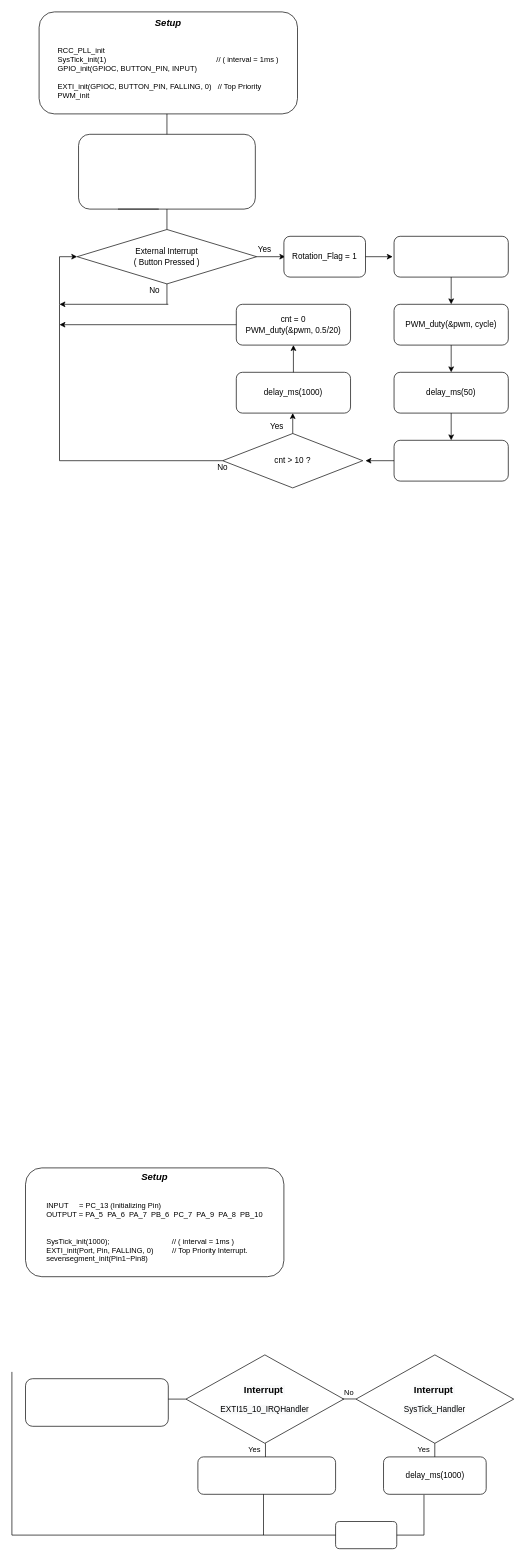
The diagram is 526 pixels wide and 1561 high, and some of its shapes have lost their labels. The shapes that lost their labels are listed below. From the top down, each one's centre as x and y in pixels, then its label:
At point (166, 171): "Variable Initialization cnt = 0 cycle = 0 Rotation_Flag = 0".
At point (450, 256): "cycle = (0.5+0.2*cnt)/20".
At point (450, 460): "cnt ++ Rotation_Flag = 0".
At point (96, 1402): "sevensegment_decode(cnt % 10)".
At point (266, 1475): "Count & Delay Value Reset".
At point (366, 1535): "cnt ++".
